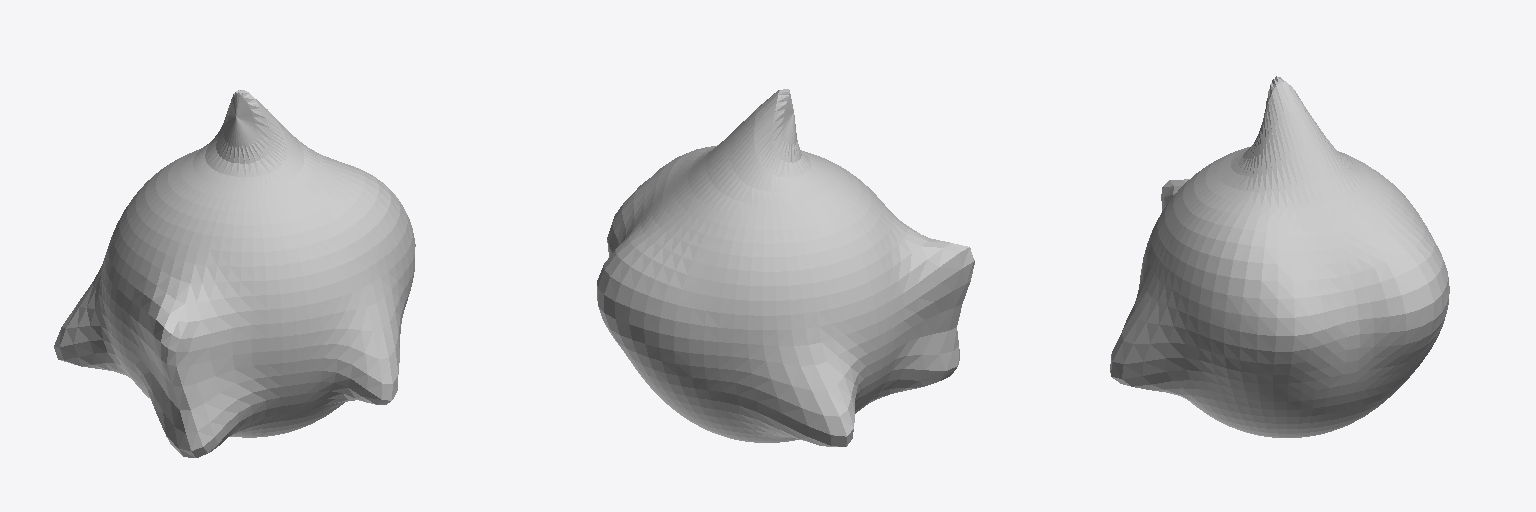
File: poissong.obj
3 renders of one model, left to right at view 1: azimuth 30°, elevation 25°; view 2: azimuth 150°, elevation 25°; view 3: azimuth 270°, elevation 25°, orthographic.
Visible parts, largest first — view 1: Sphere; view 2: Sphere; view 3: Sphere.
Part boxes in pixels (x1,y1,x2,y2): Sphere: (54, 90, 415, 457); Sphere: (597, 89, 974, 446); Sphere: (1110, 76, 1449, 437).
Size of the model in its own units: 2.33 by 2.52 by 2.27.